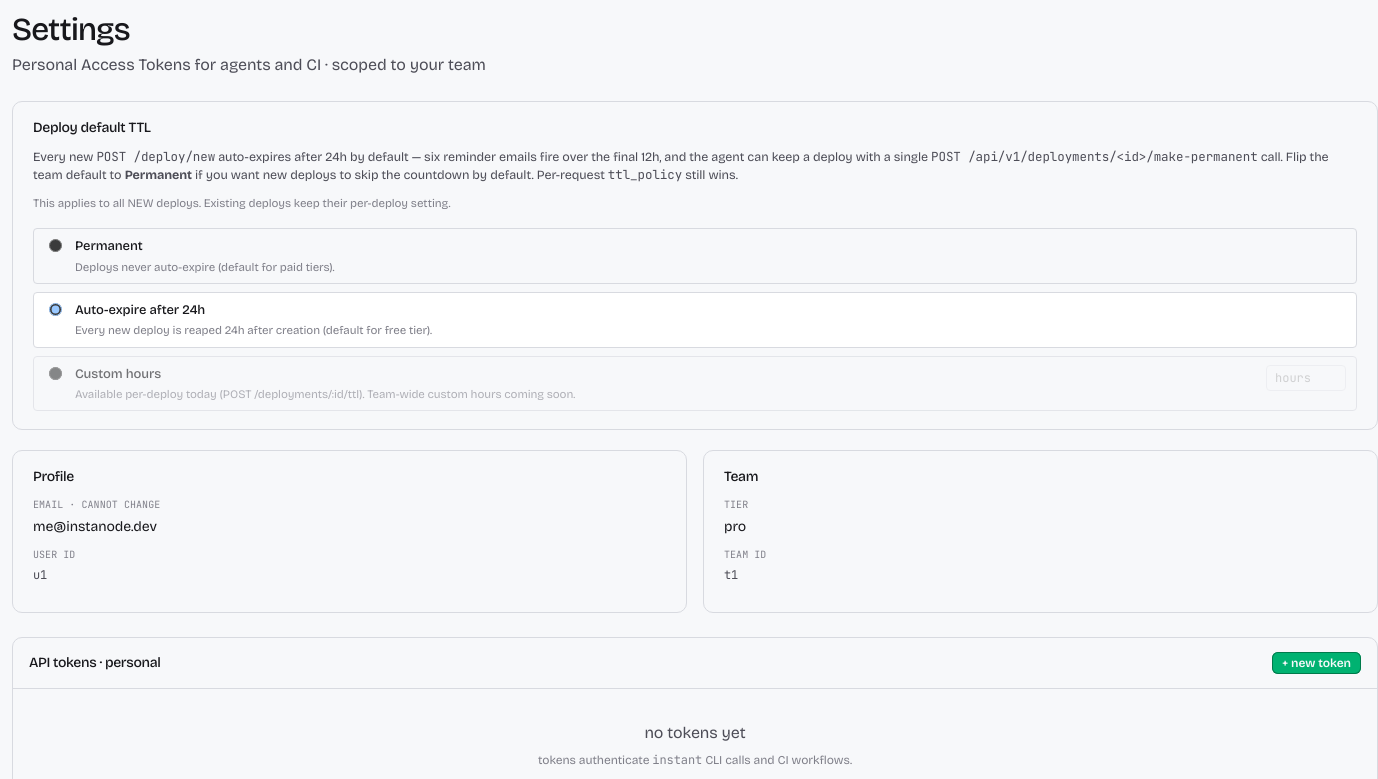
Test: DeployTtlPolicyCard — paid tier (pro, owner) › reflects current policy in the radio group and saves "Permanent" via PATCH
Expected: the element with test id "deploy-ttl-policy-card" is shown, x1=12 y1=101 x2=1377 y2=430
Expected: the radio button with test id "ttl-policy-auto-24h" is checked, x1=49 y1=303 x2=62 y2=316
// Flip to permanent → PATCH /api/v1/team/settings.
Step 1. Click the radio button with test id "ttl-policy-permanent" → (56, 246), box x1=49 y1=239 x2=62 y2=252
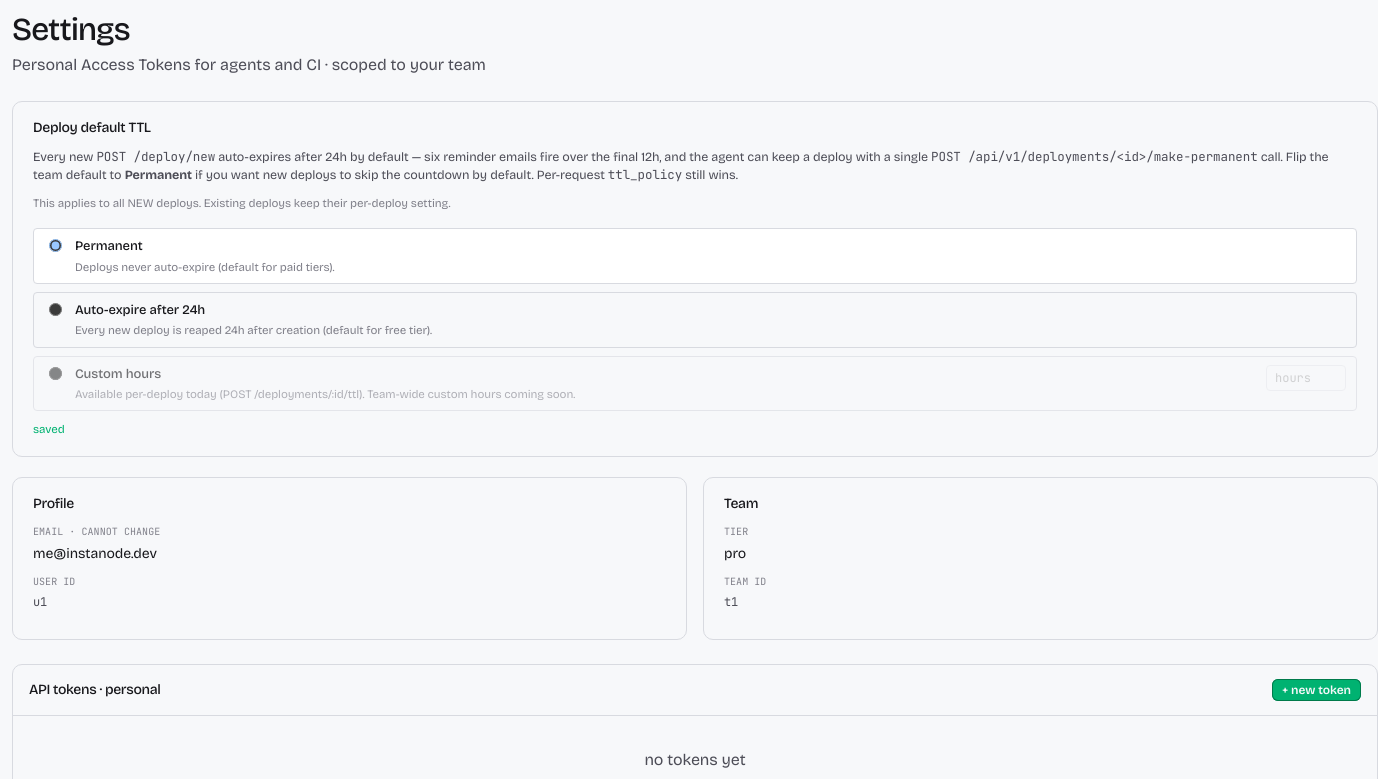
Result: the text "saved" is shown at x1=33 y1=422 x2=65 y2=436
